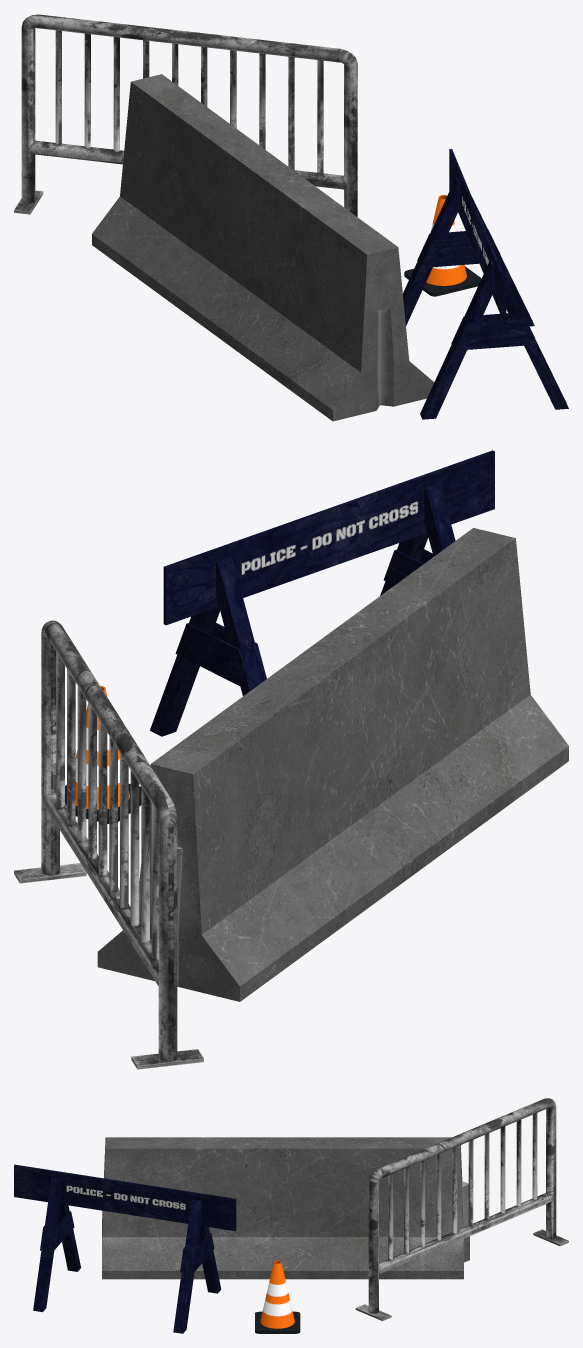
The model's file is barriers.glb.
The picture shows the model from 3 angles, top to bottom: view 1: azimuth 30°, elevation 25°; view 2: azimuth 150°, elevation 25°; view 3: azimuth 270°, elevation 25°; orthographic projection. The views are drawn at different scales.
Visible parts, largest first — view 1: CementBarrier, MetalBarrier, WoodenBarrier, Cone; view 2: CementBarrier, MetalBarrier, WoodenBarrier, Cone; view 3: CementBarrier, MetalBarrier, WoodenBarrier, Cone.
Boxes of the visible parts, x1,y1,x2,y2 form: CementBarrier: (92, 74, 434, 421); MetalBarrier: (14, 14, 357, 216); WoodenBarrier: (403, 149, 568, 419); Cone: (404, 195, 481, 296); CementBarrier: (97, 528, 568, 1001); MetalBarrier: (14, 620, 203, 1069); WoodenBarrier: (150, 450, 494, 736); Cone: (65, 685, 141, 823); CementBarrier: (102, 1137, 469, 1279); MetalBarrier: (355, 1098, 568, 1321); WoodenBarrier: (14, 1164, 236, 1333); Cone: (255, 1260, 300, 1333).
Bounding box in the file's own units: 5.36 × 3.48 × 12.27.
Materials: 4 (4 with a texture image).
